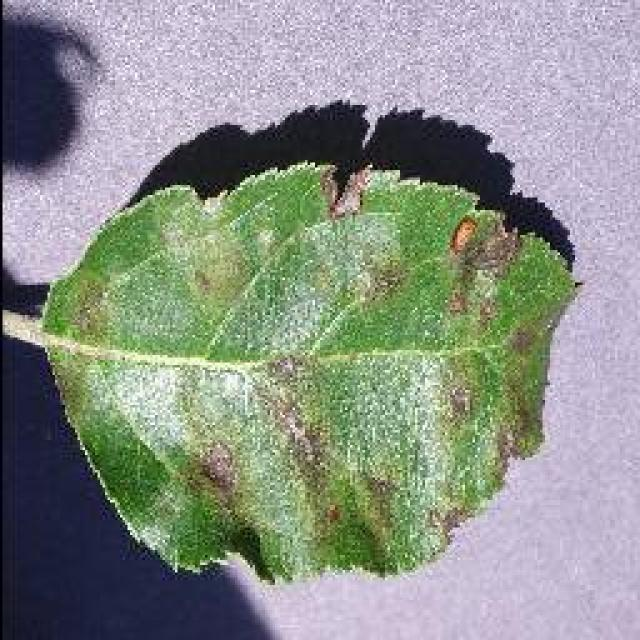apple scab disease: (30, 153, 580, 585)
